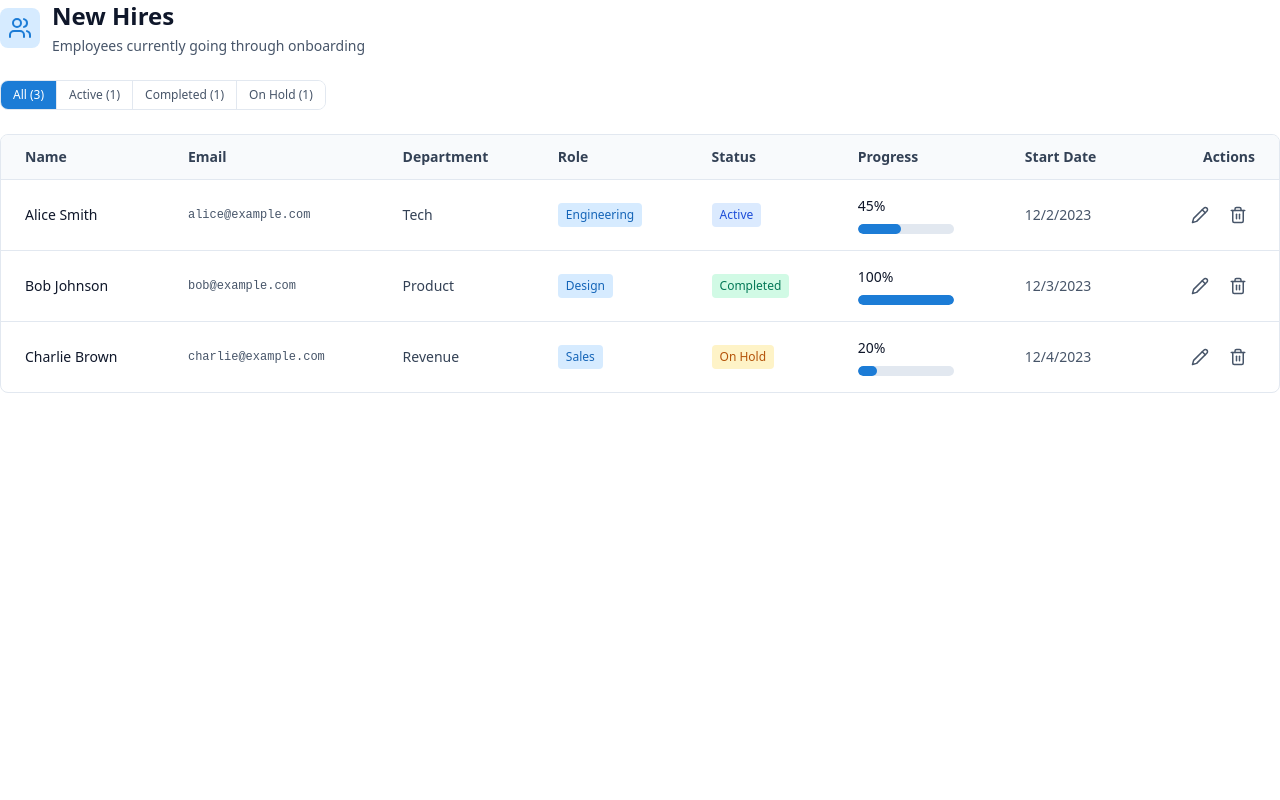
Test: NewHiresPanel › Delete › opens confirmation dialog on delete button click
The width and height of the screenshot is (1280, 800).
Click the button named "delete onboarding for alice smith". click: point(1238, 215)
box: [1221,198,1255,232]
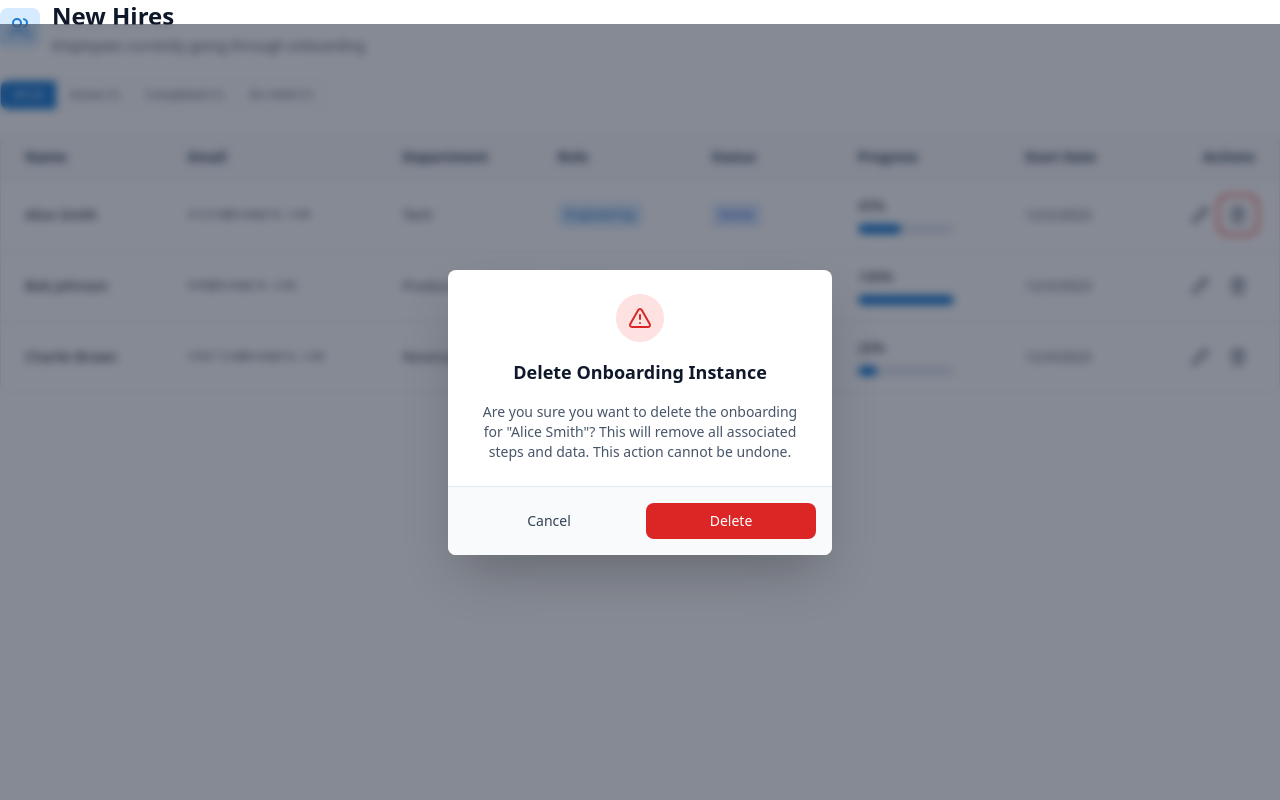
Now the heading "Delete Onboarding Instance" is shown, box [513,360,767,384]
Now the text "Alice Smith" is shown, box [483,402,797,460]
